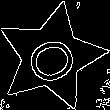O_NE: (19, 27, 84, 87)
